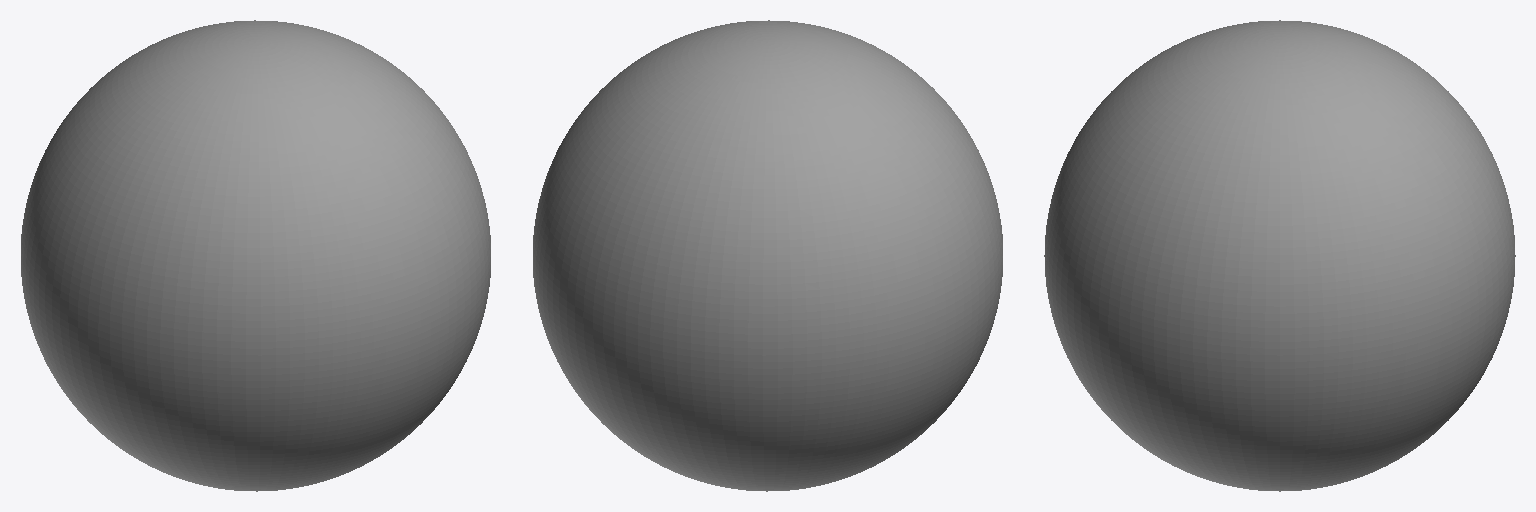
File: ball.obj
3 views of the same model, side by side, from view 1: azimuth 30°, elevation 25°; view 2: azimuth 150°, elevation 25°; view 3: azimuth 270°, elevation 25° (orthographic).
Parts seen in each view (by area): view 1: Sphere; view 2: Sphere; view 3: Sphere.
Part boxes in pixels (x1,y1,x2,y2): Sphere: (21,20,490,491); Sphere: (533,20,1002,491); Sphere: (1044,20,1515,491).
Bounding box in the file's own units: 1 × 1 × 1.